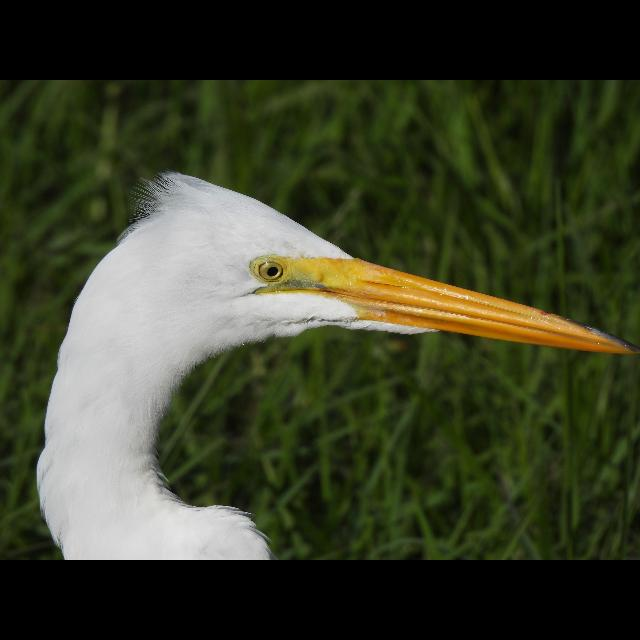egret: (29, 162, 640, 560)
